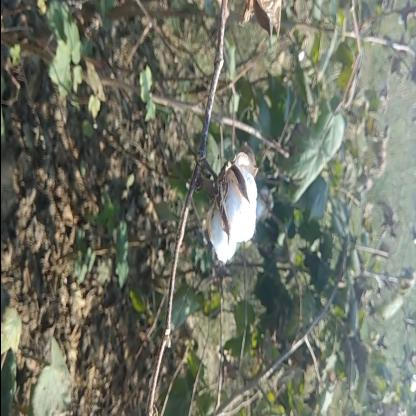cotton_ready: (186, 146, 266, 264)
